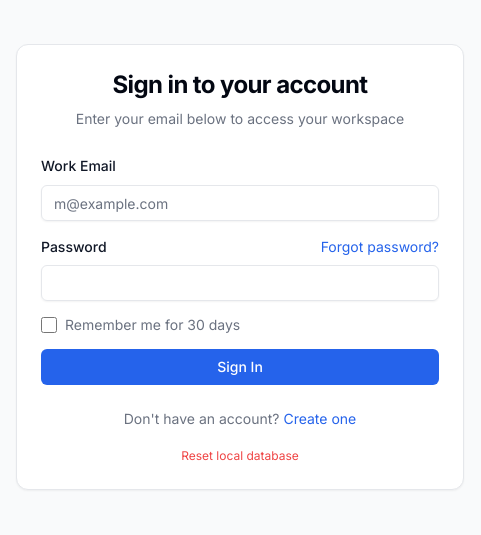
Scenario: Authentication UI › LoginPage › validates empty submission
Click the button "Sign In" at x=240, y=367, box [41,349,439,385]
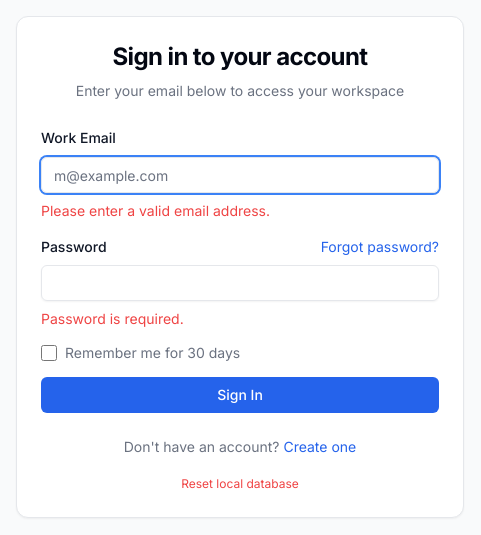
Check: the text "Please enter a valid email address." is shown, box [41,202,270,219]
Check: the text "Password is required." is shown, box [41,310,184,327]
